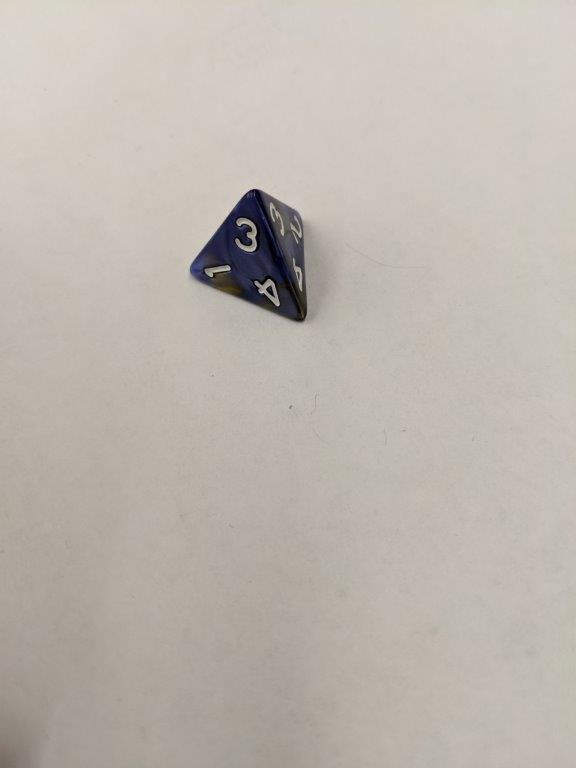d4-3: (184, 187, 314, 331)
